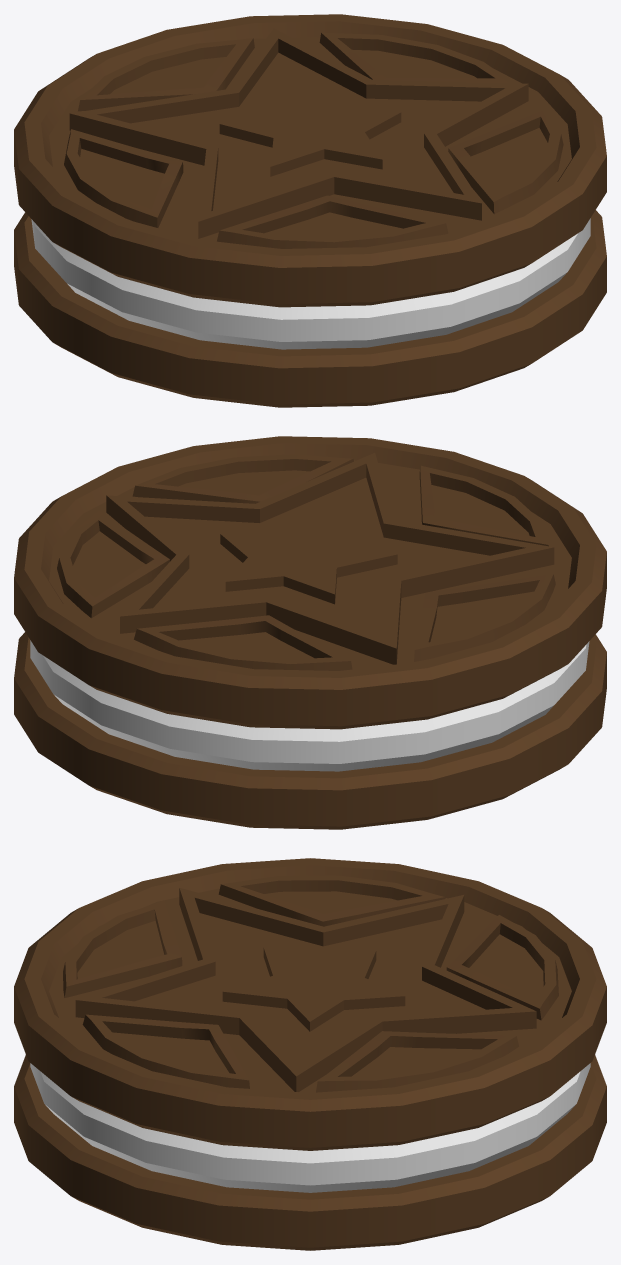
File: Oreo.fbx
3 renders of one model, top to bottom at view 1: azimuth 30°, elevation 25°; view 2: azimuth 150°, elevation 25°; view 3: azimuth 270°, elevation 25°, orthographic.
Visible parts, largest first — view 1: cookie_top, decorations12, cookie_bottom, filling; view 2: cookie_top, decorations12, cookie_bottom, filling; view 3: cookie_top, decorations12, cookie_bottom, filling.
Boxes of the visible parts, x1,y1,x2,y2 form: cookie_top: [14, 14, 606, 307]; decorations12: [64, 28, 563, 248]; cookie_bottom: [14, 210, 606, 407]; filling: [31, 218, 590, 349]; cookie_top: [14, 436, 606, 729]; decorations12: [57, 453, 555, 670]; cookie_bottom: [14, 632, 606, 829]; filling: [30, 640, 589, 771]; cookie_top: [14, 858, 606, 1150]; decorations12: [63, 875, 558, 1092]; cookie_bottom: [14, 1055, 606, 1250]; filling: [30, 1063, 590, 1192].
Bounding box in the file's own units: 2.07 × 0.6193 × 2.07.
